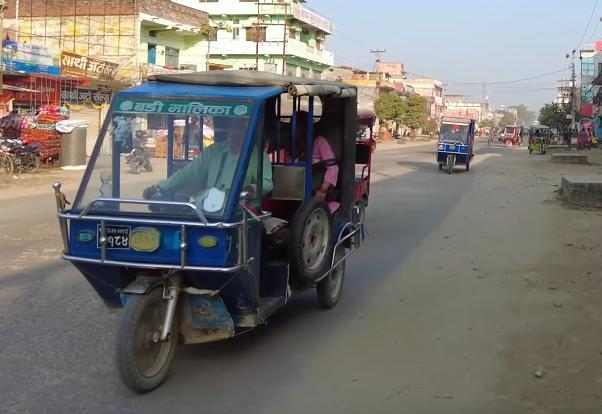e-rickshaw: (46, 67, 380, 402), (429, 106, 478, 177), (526, 122, 551, 156), (501, 121, 525, 148)
